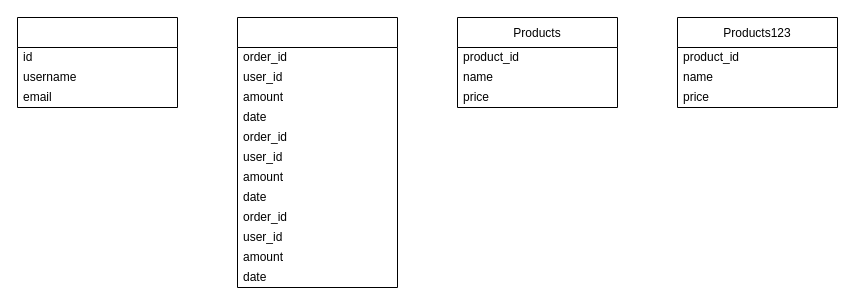
Image size: 855x305. Some labels were removed from this diagram. The shapes that lost their labels are listed below. From the top down, each one's box as (x1, y1, x2, y2) in pixels, then its label:
(16, 16, 178, 108): Users
(236, 16, 398, 288): Orders
